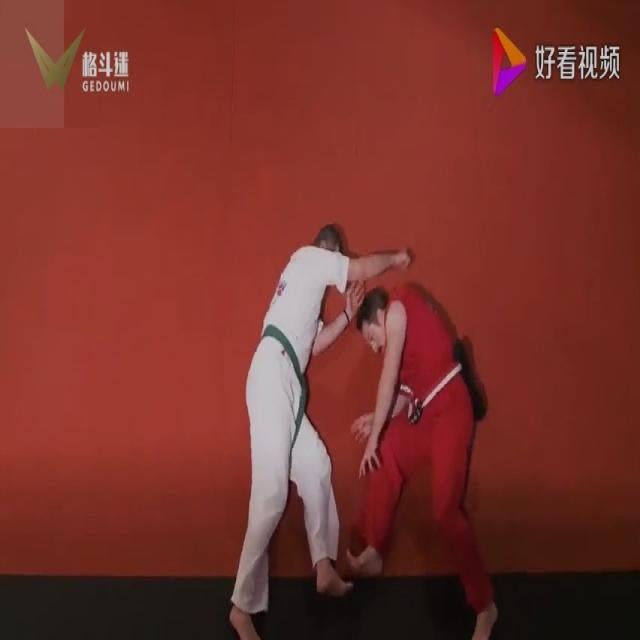fight: (221, 217, 513, 639)
